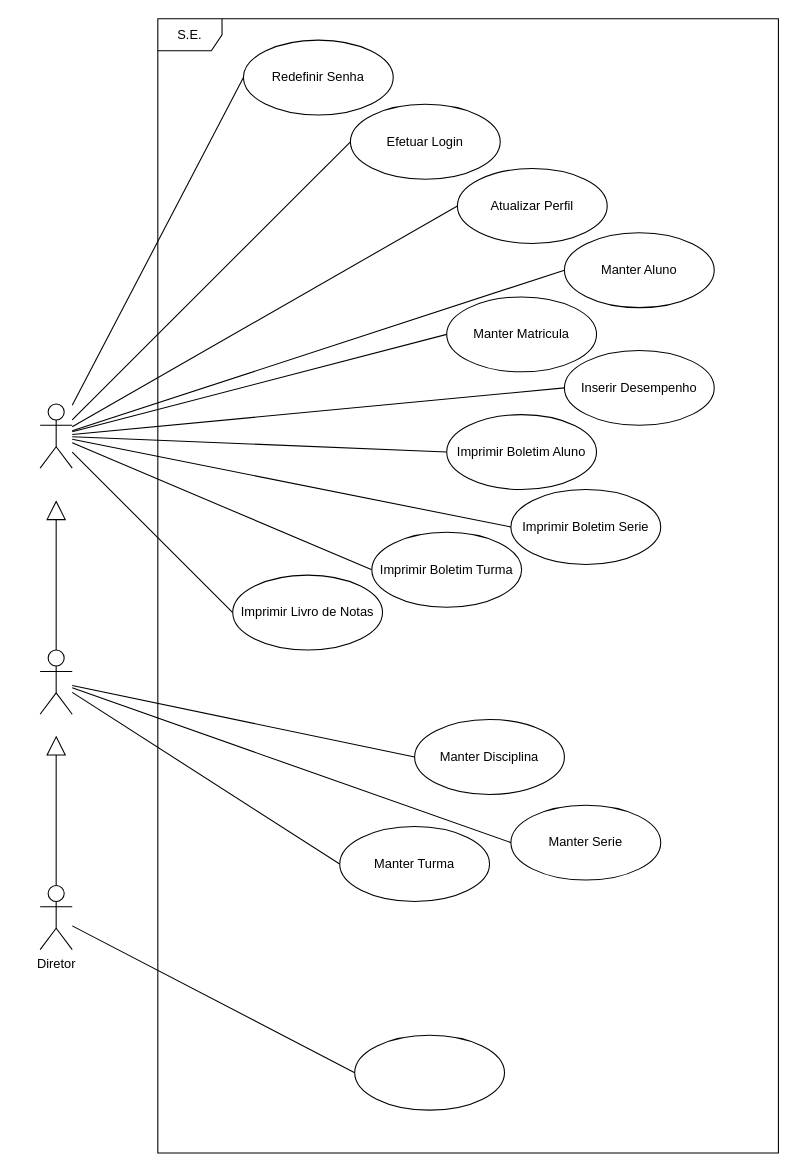
This 797x1172 diagram has some shape labels left out. Each missing label, with the centre of its shape:
Coordenador: [55,681]
Manter Usuario: [429,1072]
Secretario: [55,435]
